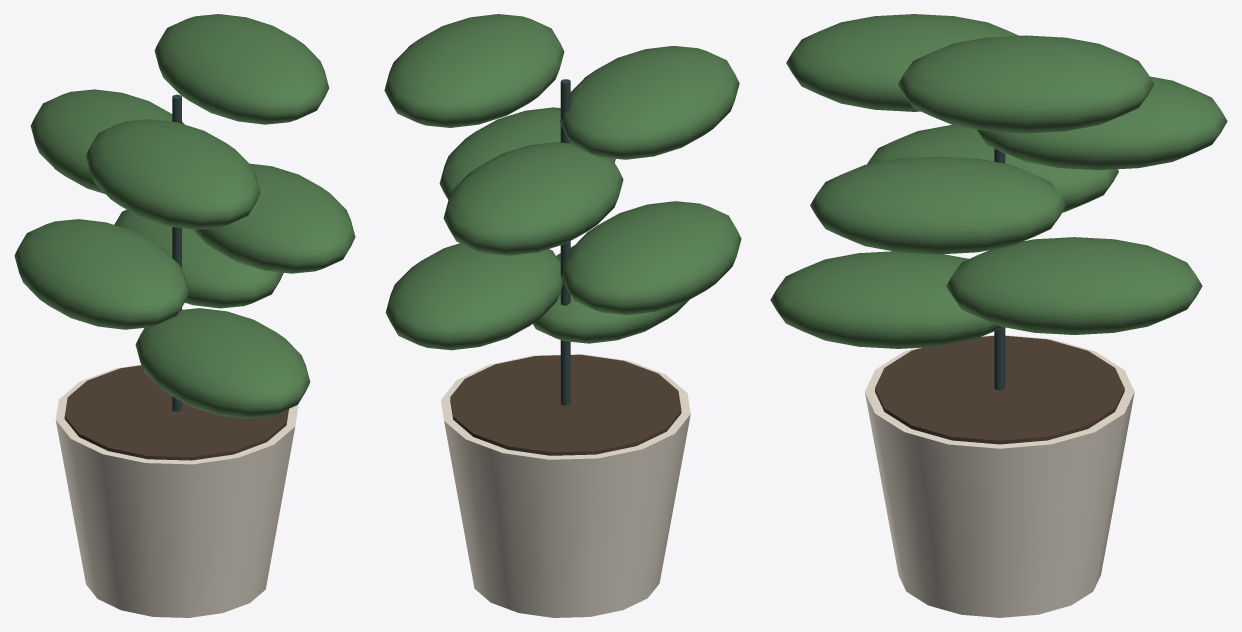
3 renders of one model, left to right at view 1: azimuth 30°, elevation 25°; view 2: azimuth 150°, elevation 25°; view 3: azimuth 270°, elevation 25°, orthographic. The views are drawn at different scales.
Parts seen in each view (by area): view 1: pot, leaf5, leaf2, leaf6, leaf0, soil, leaf3, leaf4, leaf1; view 2: pot, soil, leaf2, leaf6, leaf5, leaf4, leaf1, leaf3, leaf0, stem6, stem2, stem1; view 3: pot, soil, leaf3, leaf6, leaf1, leaf0, leaf5, leaf4, leaf2.
Boxes of the visible parts, x1,y1,x2,y2 form: pot: (55, 364, 298, 617); leaf5: (85, 119, 260, 229); leaf2: (14, 219, 189, 329); leaf6: (154, 14, 329, 124); leaf0: (135, 308, 310, 418); soil: (64, 365, 288, 460); leaf3: (192, 163, 355, 273); leaf4: (30, 89, 184, 193); leaf1: (114, 209, 283, 308); pot: (441, 354, 690, 617); soil: (450, 354, 681, 455); leaf2: (561, 201, 741, 314); leaf6: (384, 14, 564, 127); leaf5: (559, 46, 739, 159); leaf4: (443, 142, 623, 255); leaf1: (385, 243, 562, 350); leaf3: (439, 107, 615, 199); leaf0: (533, 245, 688, 343); stem6: (560, 79, 570, 404); stem2: (560, 243, 570, 405); stem1: (560, 284, 570, 405); pot: (865, 335, 1134, 617); soil: (875, 335, 1124, 444); leaf3: (810, 156, 1066, 254); leaf6: (898, 35, 1153, 133); leaf1: (946, 237, 1202, 334); leaf0: (770, 251, 1002, 348); leaf5: (786, 14, 1018, 111); leaf4: (976, 76, 1227, 170); leaf2: (867, 125, 1118, 212).
Size of the model in its own units: 0.5413 by 0.927 by 0.6777.
